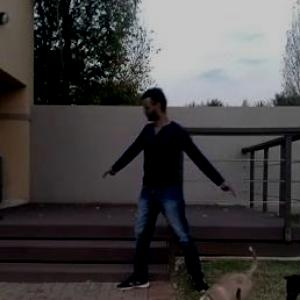land: (99, 87, 242, 294)
